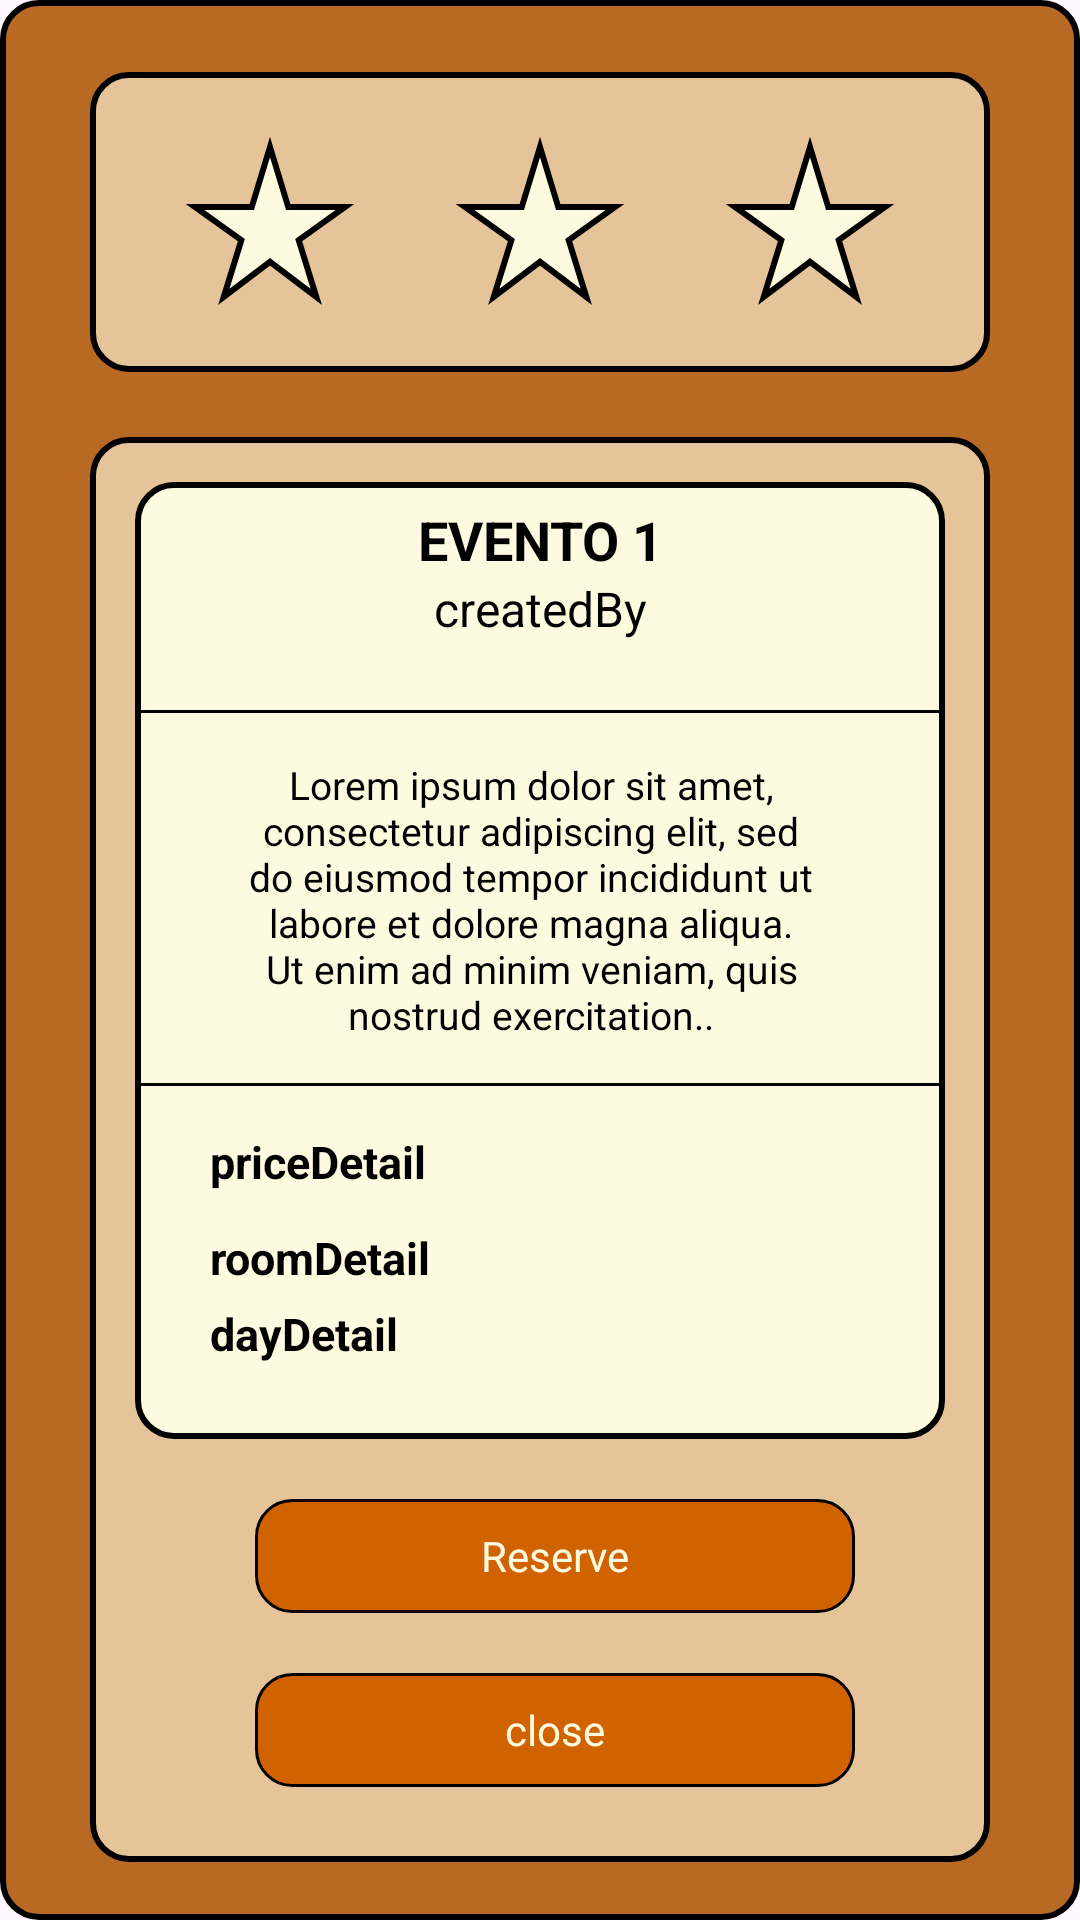

Icon bounding boxes for this 1080 x 1920 phone screenshot, format (x1,y1,x2,y2):
star: (186,137,354,305), (456,137,624,305), (726,137,894,305)
